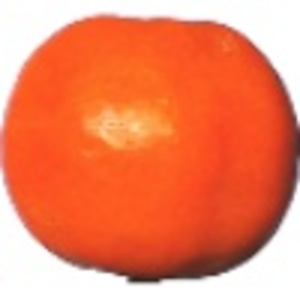tangerina: (1, 12, 300, 285)
